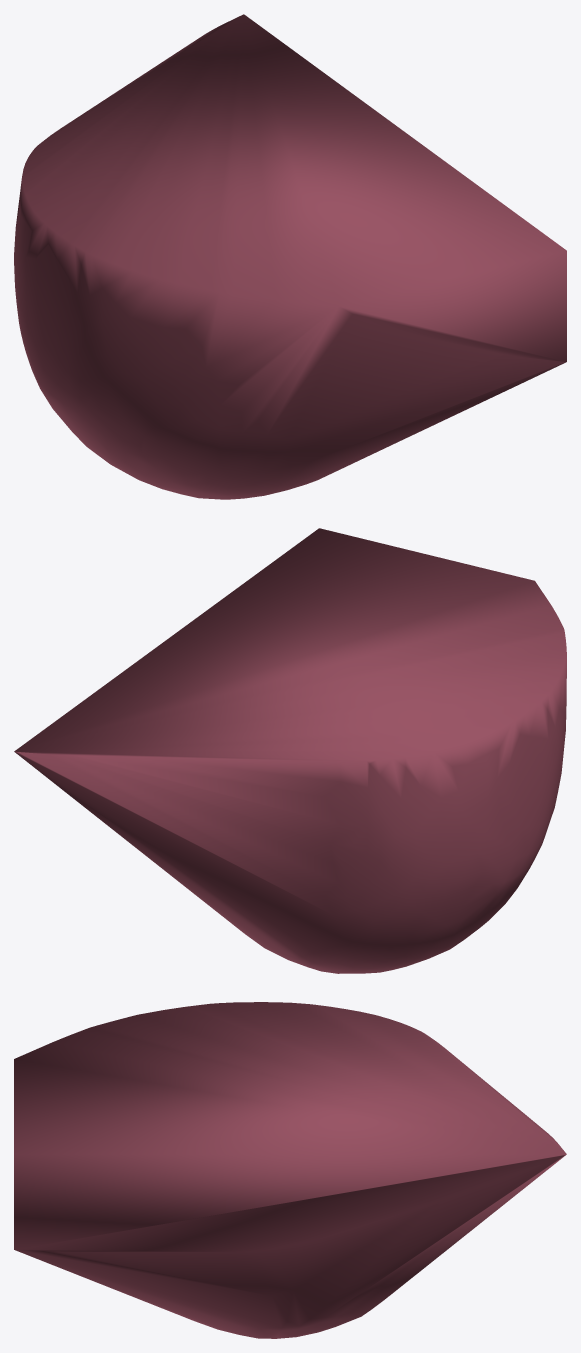
Rendered from bee_toy_1_coacd_single_link_urdf_convex_piece_13.obj.
The picture shows the model from 3 angles, top to bottom: view 1: azimuth 30°, elevation 25°; view 2: azimuth 150°, elevation 25°; view 3: azimuth 270°, elevation 25°; orthographic projection. The views are drawn at different scales.
Size of the model in its own units: 0.0606 by 0.0453 by 0.0922.
